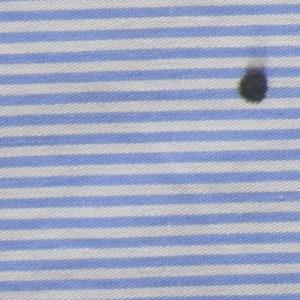Stain: (236, 56, 272, 110)
